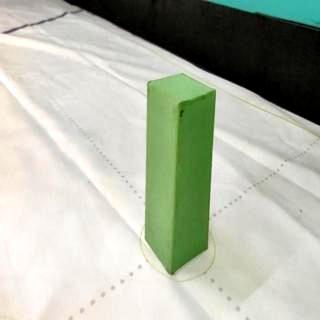greenbox: (144, 71, 217, 276)
